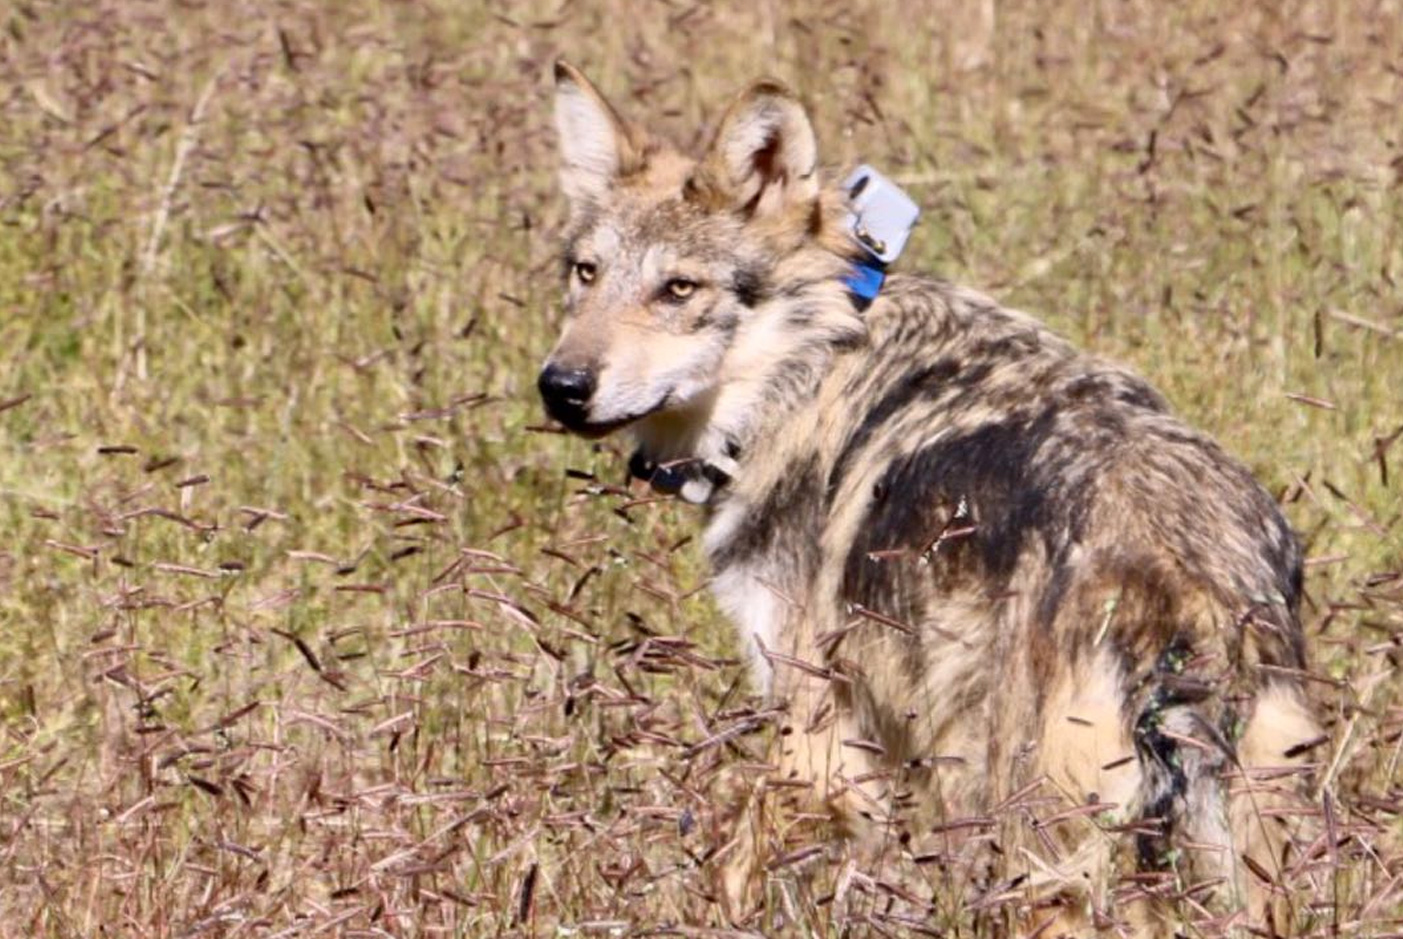Lobo: (466, 45, 1314, 765)
